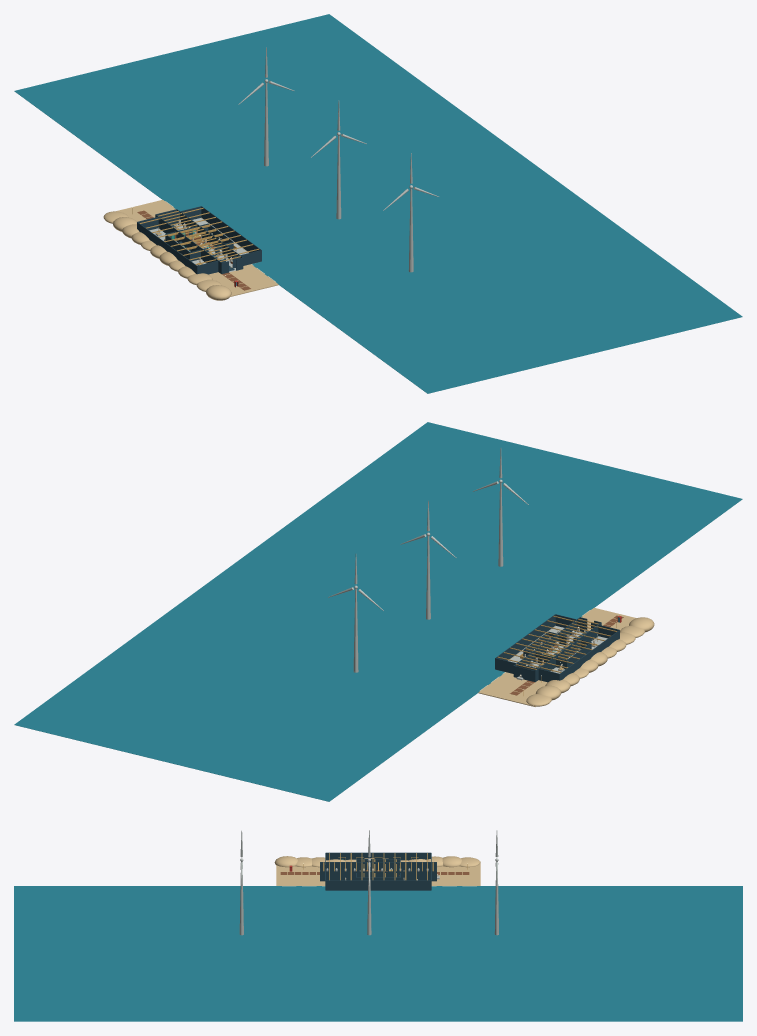
Rendered from leisure_bundle.glb.
3 renders of one model, top to bottom at view 1: azimuth 30°, elevation 25°; view 2: azimuth 150°, elevation 25°; view 3: azimuth 270°, elevation 25°, orthographic. The views are drawn at different scales.
Parts seen in each view (by area): view 1: Decor_Water, Beach architecture, Gallery architecture, Memorial architecture, Cantina architecture, Studio architecture; view 2: Decor_Water, Beach architecture, Gallery architecture, Memorial architecture, Cantina architecture; view 3: Decor_Water, Beach architecture, Gallery architecture, Memorial architecture.
Boxes of the visible parts, x1,y1,x2,y2 form: Decor_Water: (14,14,742,393); Beach architecture: (103,199,278,300); Gallery architecture: (137,206,261,274); Memorial architecture: (155,209,243,274); Cantina architecture: (165,224,233,261); Studio architecture: (165,223,233,259); Decor_Water: (14,422,742,801); Beach architecture: (478,607,654,706); Gallery architecture: (495,614,619,682); Memorial architecture: (513,617,601,682); Cantina architecture: (523,632,591,669); Decor_Water: (14,886,742,1021); Beach architecture: (274,856,480,885); Gallery architecture: (325,852,431,890); Memorial architecture: (320,862,436,881).
Size of the model in its own units: 212 by 65.71 by 400.
